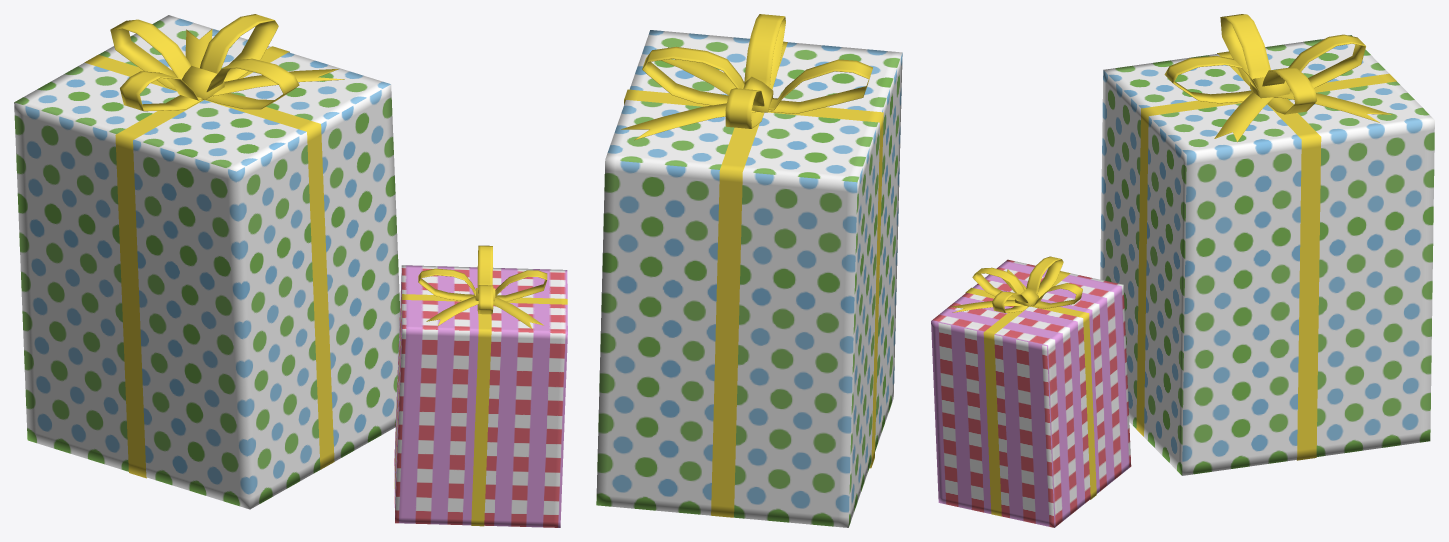
The model's file is Paket_1.glb.
3 renders of one model, left to right at view 1: azimuth 30°, elevation 25°; view 2: azimuth 150°, elevation 25°; view 3: azimuth 270°, elevation 25°, orthographic. The views are drawn at different scales.
Parts seen in each view (by area): view 1: Paket.001; view 2: Paket.001; view 3: Paket.001.
Boxes of the visible parts, box(x1,y1,x2,y2) form: Paket.001: box(14, 14, 567, 527); Paket.001: box(596, 14, 902, 527); Paket.001: box(931, 14, 1434, 527).
Bounding box in the file's own units: 1.15 × 1.11 × 1.37.
3 materials, 2 textured.
